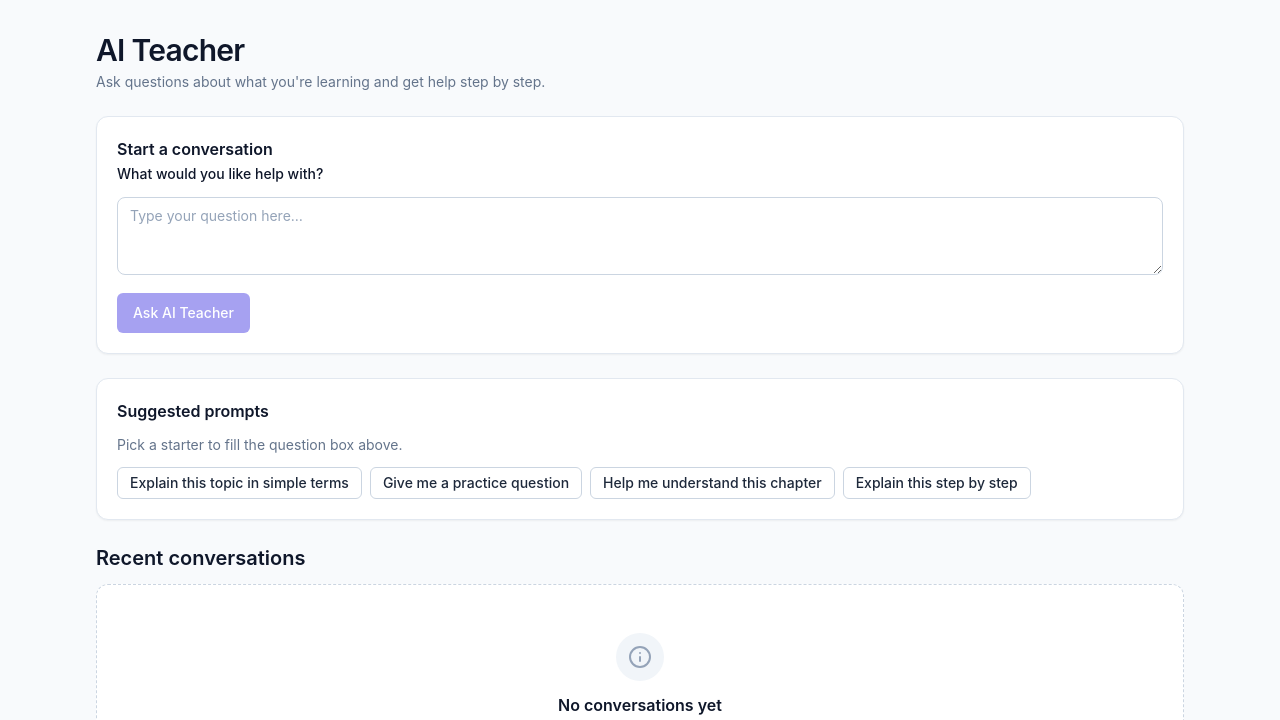
it: AI Teacher landing (AiTeacherPage) › shows an inline error when starting fails
Expected: the heading "Recent conversations" is shown, left=96, top=546, right=306, bottom=570
In the text box labelled "What would you like help with?": (640, 236) left=117, top=197, right=1163, bottom=275, type "Hi"
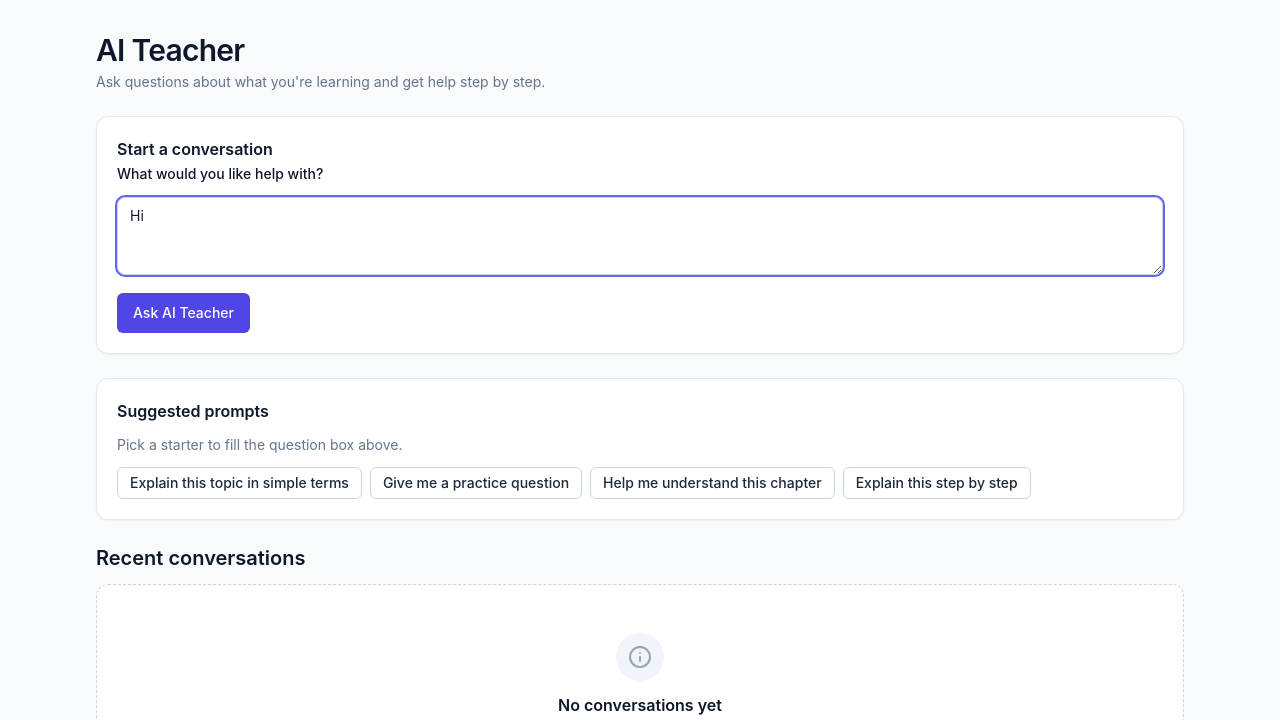
Click the button "Ask AI Teacher": (184, 313) left=117, top=293, right=250, bottom=333
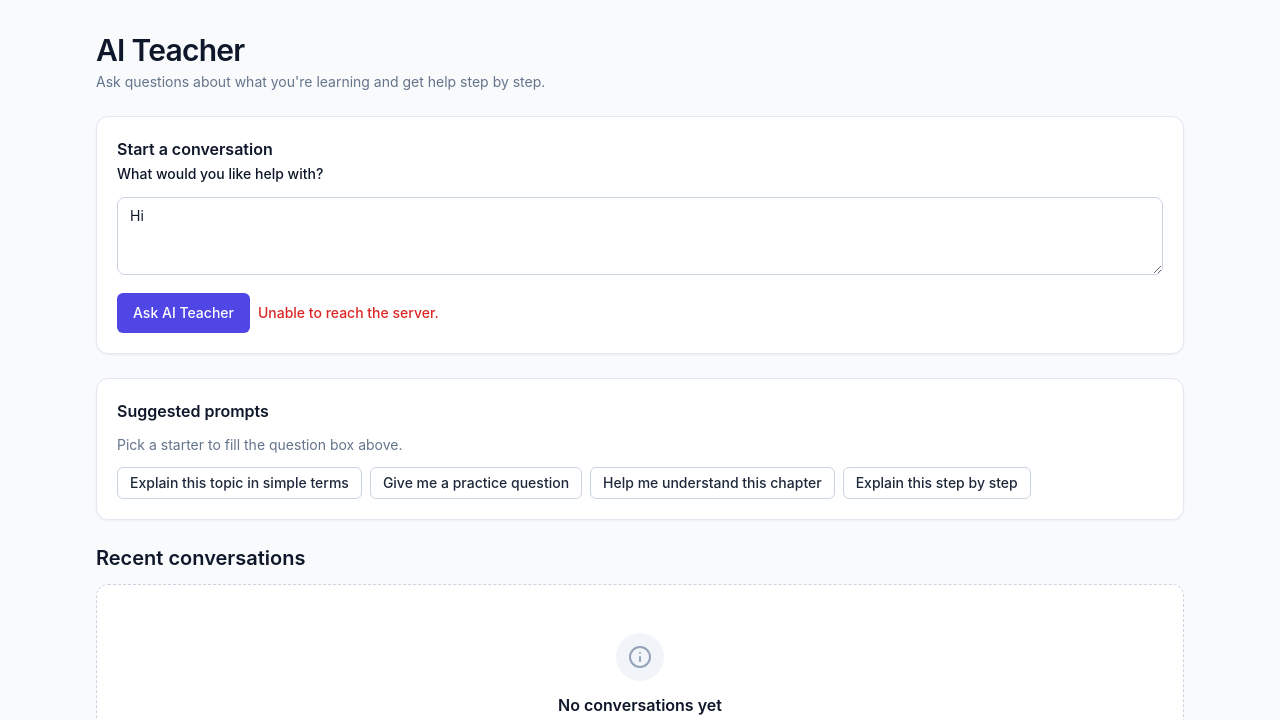
Result: the message reads "Unable to reach the server." at left=258, top=304, right=439, bottom=321
